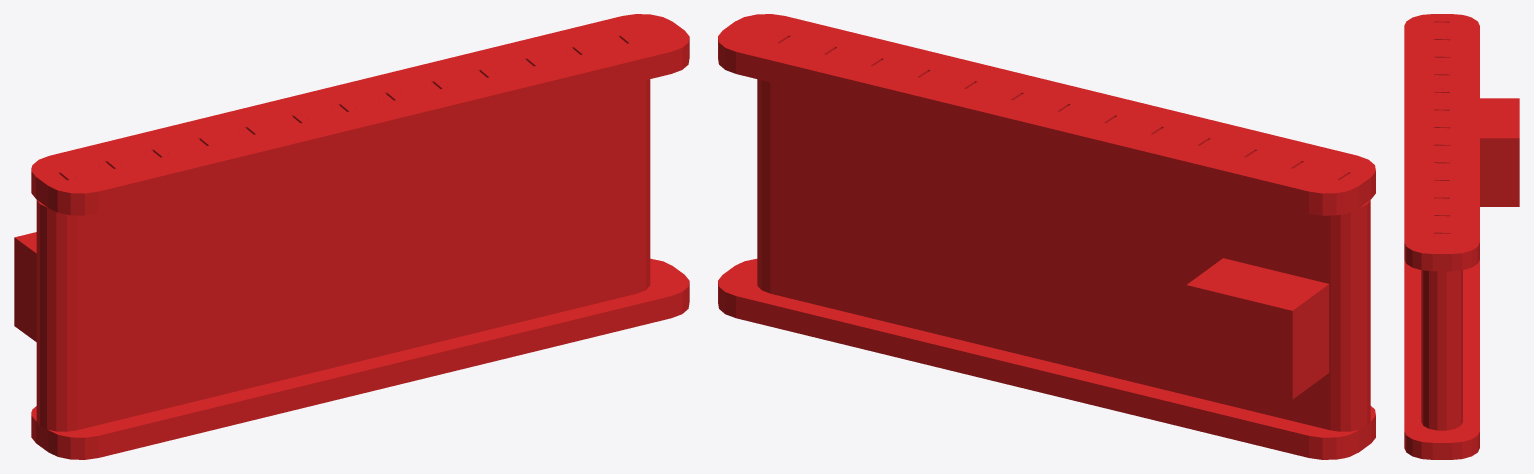
The model's file is BandaOpcion3GLB.glb.
3 views of the same model, side by side, from view 1: azimuth 30°, elevation 25°; view 2: azimuth 150°, elevation 25°; view 3: azimuth 270°, elevation 25° (orthographic). The views are drawn at different scales.
Parts seen in each view (by area): view 1: BandaOpcion3STL; view 2: BandaOpcion3STL; view 3: BandaOpcion3STL.
Boxes of the visible parts, left/top/right/bottom form: BandaOpcion3STL: left=14, top=14, right=689, bottom=459; BandaOpcion3STL: left=718, top=14, right=1375, bottom=459; BandaOpcion3STL: left=1404, top=14, right=1519, bottom=459.
Size of the model in its own units: 301 by 120 by 61.
